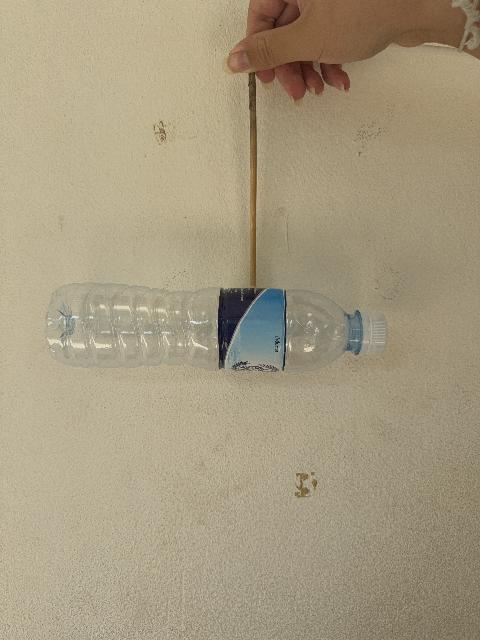bottle: (46, 284, 387, 372)
